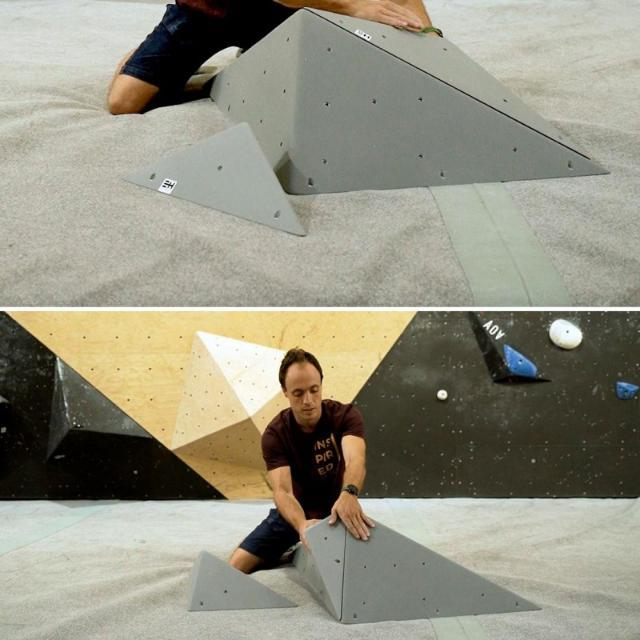Crimp: (616, 380, 638, 400)
Jug: (502, 344, 538, 378)
Sloper: (548, 318, 582, 350), (436, 389, 448, 401)
Volume: (201, 6, 609, 194), (292, 512, 542, 624), (120, 120, 308, 236), (172, 331, 290, 472), (46, 356, 152, 462), (186, 548, 298, 612), (468, 312, 552, 384)
